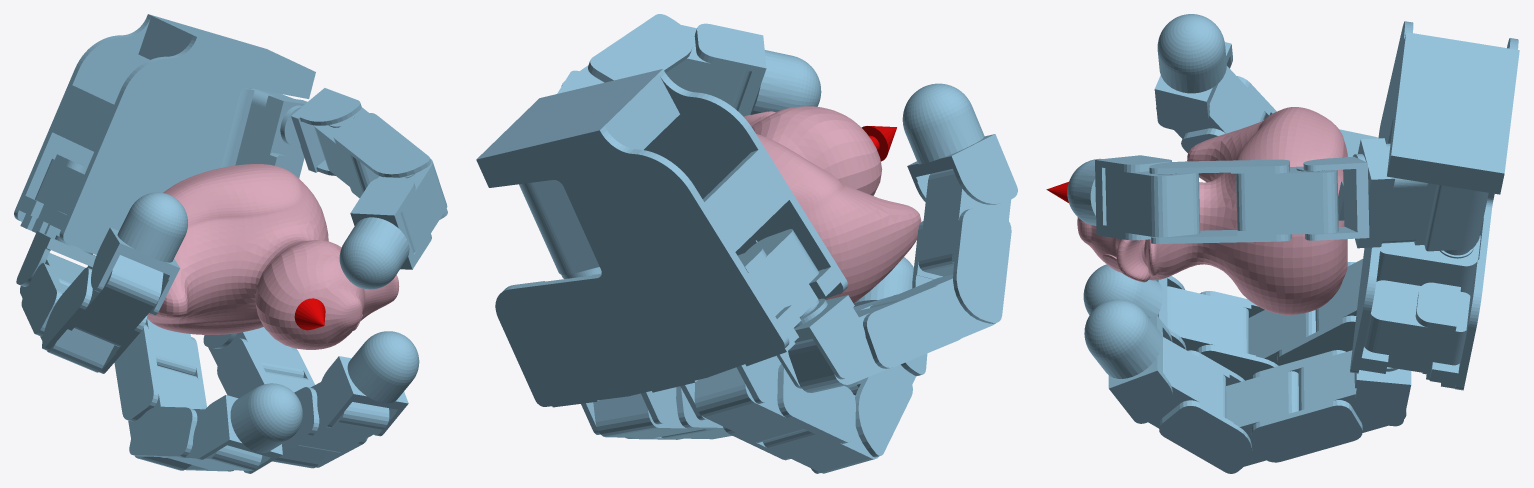
The picture shows the model from 3 angles, left to right: view 1: azimuth 30°, elevation 25°; view 2: azimuth 150°, elevation 25°; view 3: azimuth 270°, elevation 25°; orthographic projection. The views are drawn at different scales.
Parts seen in each view (by area): view 1: world, rubber_duck.stl; view 2: world, rubber_duck.stl; view 3: world, rubber_duck.stl.
Boxes of the visible parts, x1=… form: world: x1=14, y1=14, x2=447, y2=473; rubber_duck.stl: x1=147, y1=164, x2=399, y2=349; world: x1=476, y1=14, x2=1017, y2=473; rubber_duck.stl: x1=744, y1=106, x2=921, y2=303; world: x1=1046, y1=14, x2=1519, y2=473; rubber_duck.stl: x1=1077, y1=107, x2=1347, y2=314.
Bounding box in the file's own units: 0.1622 × 0.1646 × 0.168.
